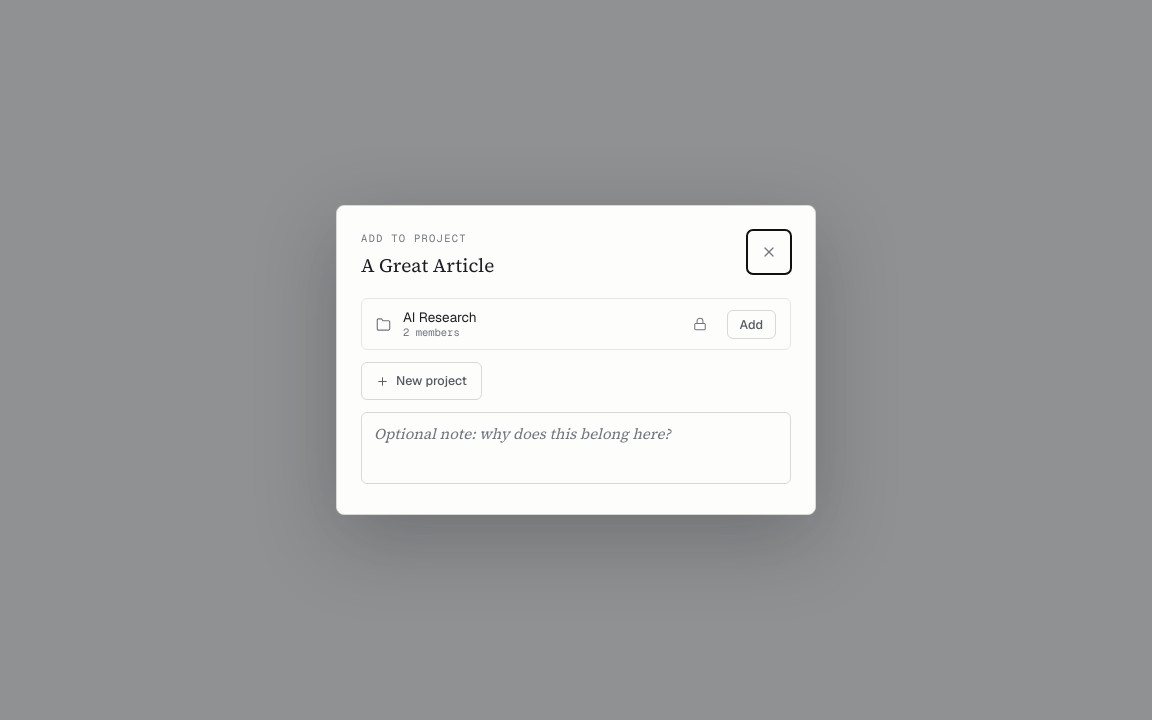
<ProjectPickerModal> › shows the API error when adding fails
The image size is (1152, 720).
Click the button "Add": (751, 324) [727,310,776,339]
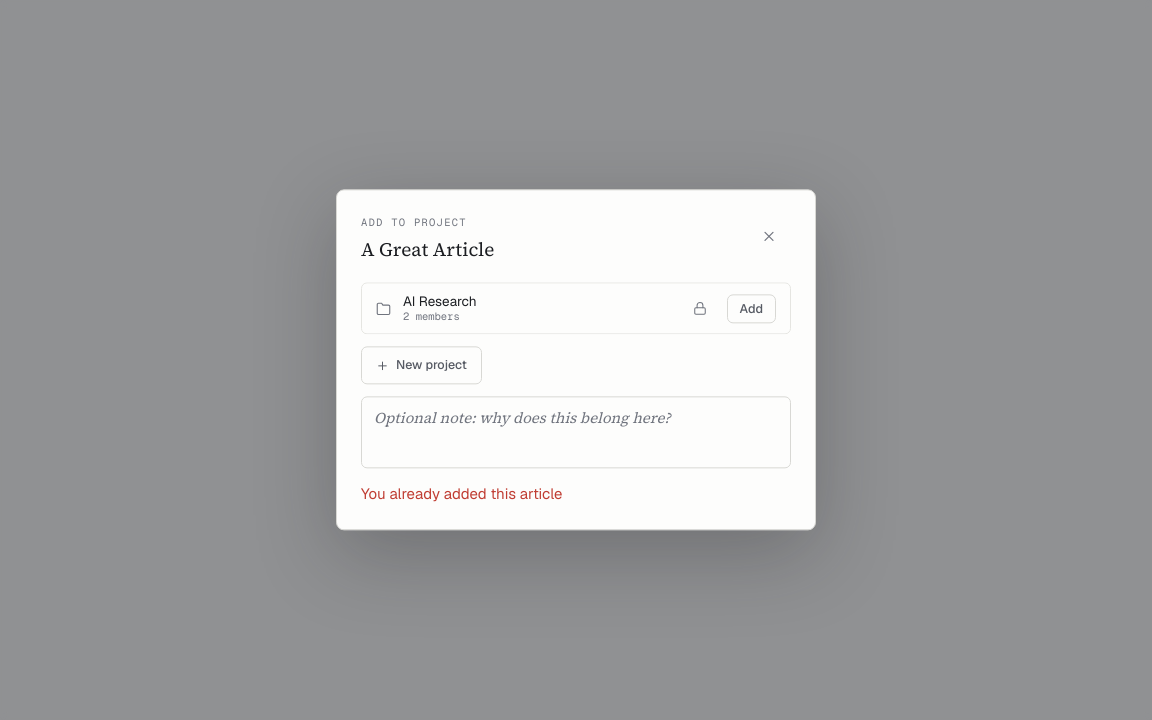
Expected: the text "You already added this article" is shown, [361,484,562,503]
